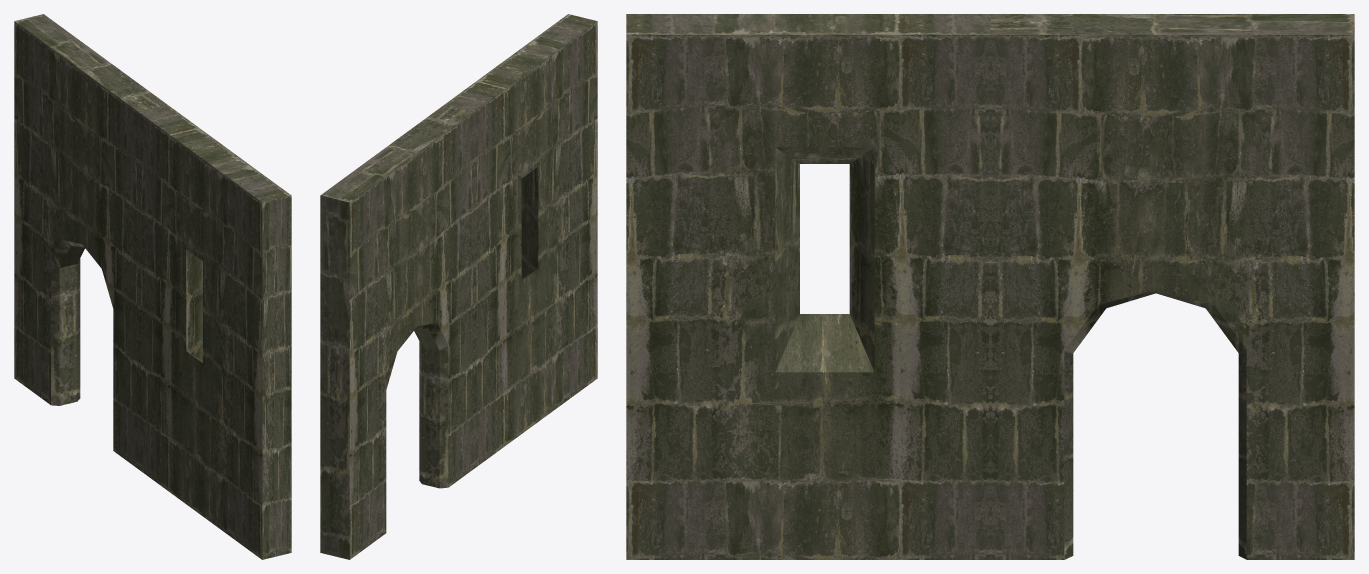
Rendered from Wall_Arrowslit+Door.fbx.
The picture shows the model from 3 angles, left to right: view 1: azimuth 30°, elevation 25°; view 2: azimuth 150°, elevation 25°; view 3: azimuth 270°, elevation 25°; orthographic projection. The views are drawn at different scales.
Visible parts, largest first — view 1: Arrowslit+Door; view 2: Arrowslit+Door; view 3: Arrowslit+Door.
Part boxes in pixels (x1=…): Arrowslit+Door: x1=14, y1=14, x2=291, y2=559; Arrowslit+Door: x1=320, y1=14, x2=597, y2=559; Arrowslit+Door: x1=626, y1=14, x2=1354, y2=559.
Bounding box in the file's own units: 51 × 595 × 748.
